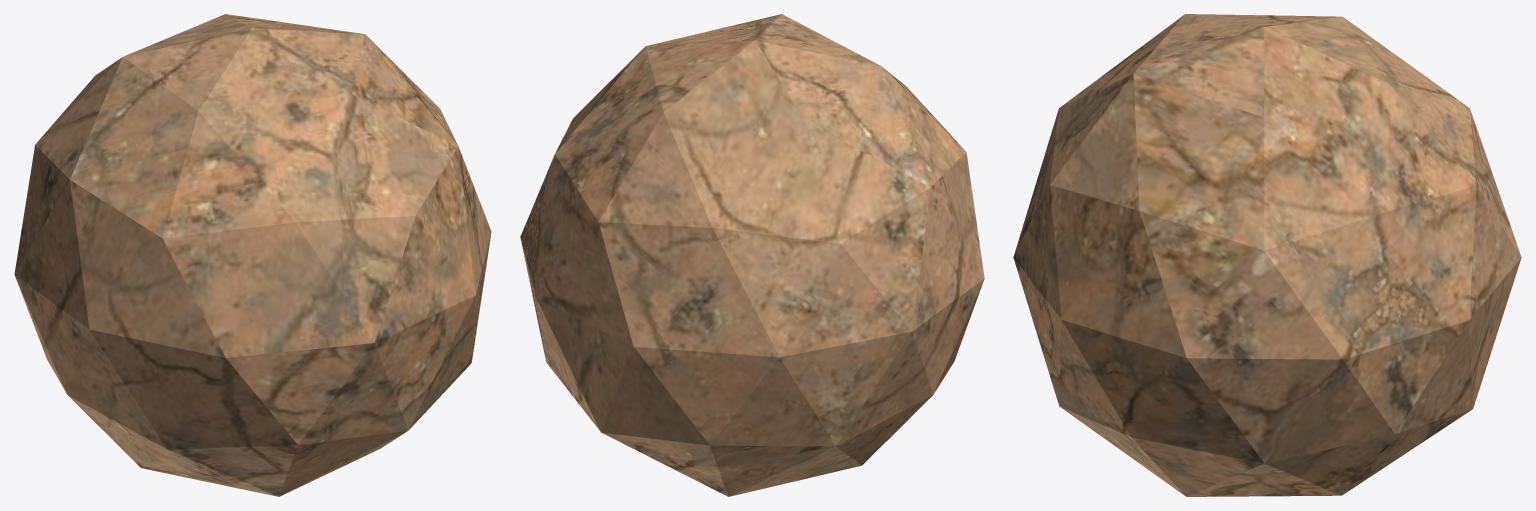
Rendered from ember_rock.glb.
3 renders of one model, left to right at view 1: azimuth 30°, elevation 25°; view 2: azimuth 150°, elevation 25°; view 3: azimuth 270°, elevation 25°, orthographic. The views are drawn at different scales.
Parts seen in each view (by area): view 1: ember_rock; view 2: ember_rock; view 3: ember_rock.
Part boxes in pixels (box(x1,y1,x2,y2)): ember_rock: box(14, 14, 491, 496); ember_rock: box(520, 14, 984, 496); ember_rock: box(1013, 14, 1521, 496).
Bounding box in the file's own units: 1.04 × 1.09 × 1.1.
1 material, 1 textured.
